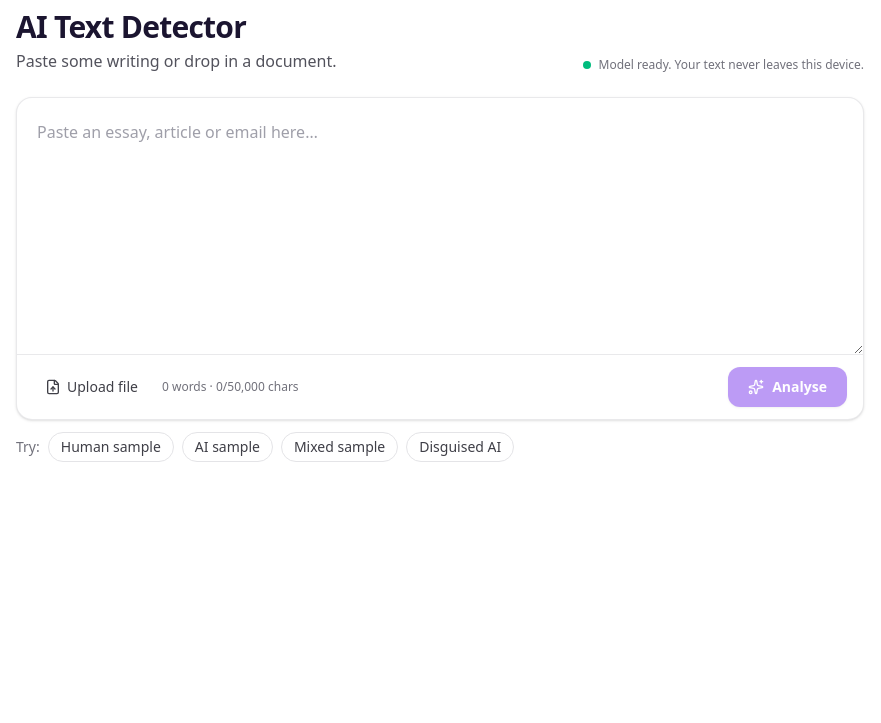
Detect page (in-browser model) › analyses pasted text locally, shows the verdict and saves to history
expect the button "Analyse" is disabled: met, box x1=728 y1=367 x2=847 y2=407
expect the text "Model ready. Your text never leaves this device." is shown: met, box x1=582 y1=57 x2=864 y2=73
Click the button "Mixed sample".
click(340, 447)  # box x1=281 y1=432 x2=398 y2=462
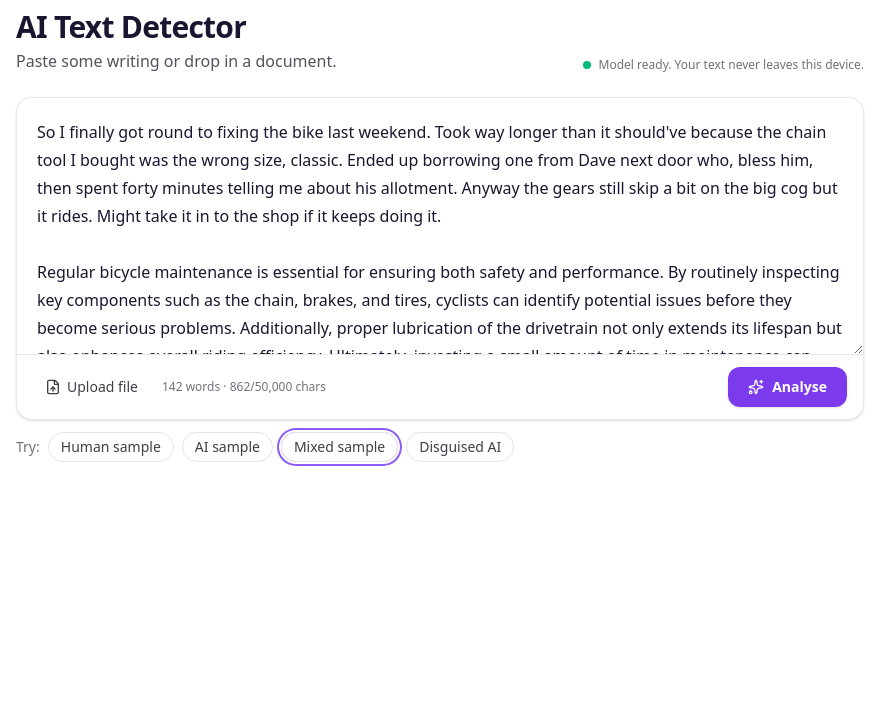
Click the button "Analyse".
click(788, 387)  # box x1=728 y1=367 x2=847 y2=407
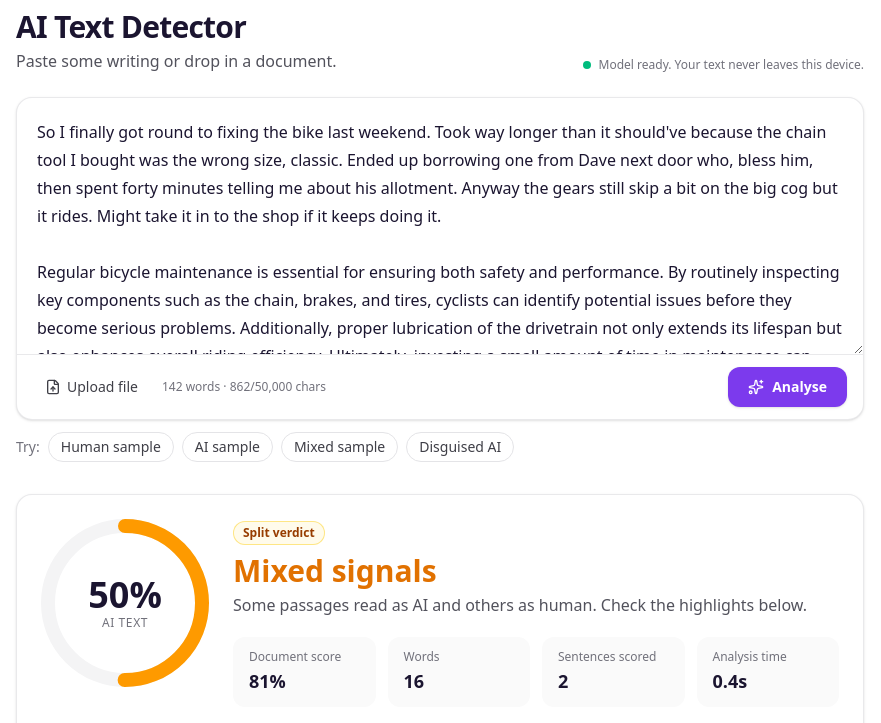
expect the heading "Mixed signals" is shown: met, box x1=233 y1=550 x2=437 y2=591
